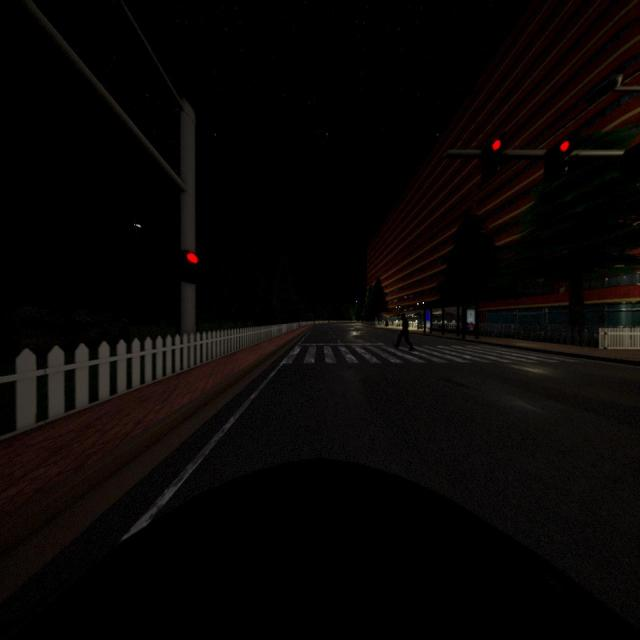Pedestrian: (394, 313, 413, 350)
Vehicle: (0, 456, 640, 640)
traffic_light: (543, 139, 570, 189), (480, 138, 502, 179), (180, 248, 198, 286)
